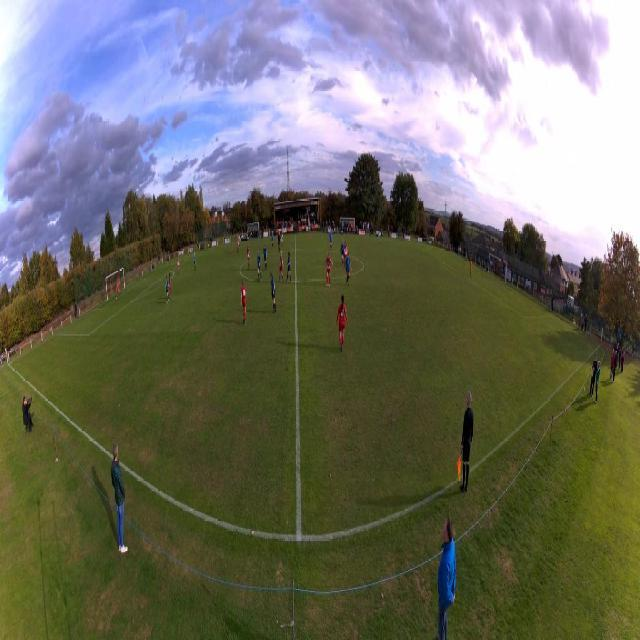ball: (116, 298, 117, 300)
player: (336, 293, 349, 353), (270, 271, 277, 313), (241, 281, 247, 325), (326, 252, 333, 287), (345, 252, 352, 286), (277, 250, 284, 282), (286, 252, 292, 283), (340, 240, 346, 267), (165, 275, 170, 304), (257, 250, 261, 281), (247, 244, 251, 270), (263, 245, 267, 271), (344, 241, 348, 262), (169, 273, 172, 300), (277, 232, 281, 252), (329, 231, 333, 250), (116, 282, 120, 298), (194, 252, 197, 271), (281, 229, 284, 247), (271, 231, 274, 249), (470, 260, 473, 278), (178, 255, 180, 274), (237, 237, 239, 253)
